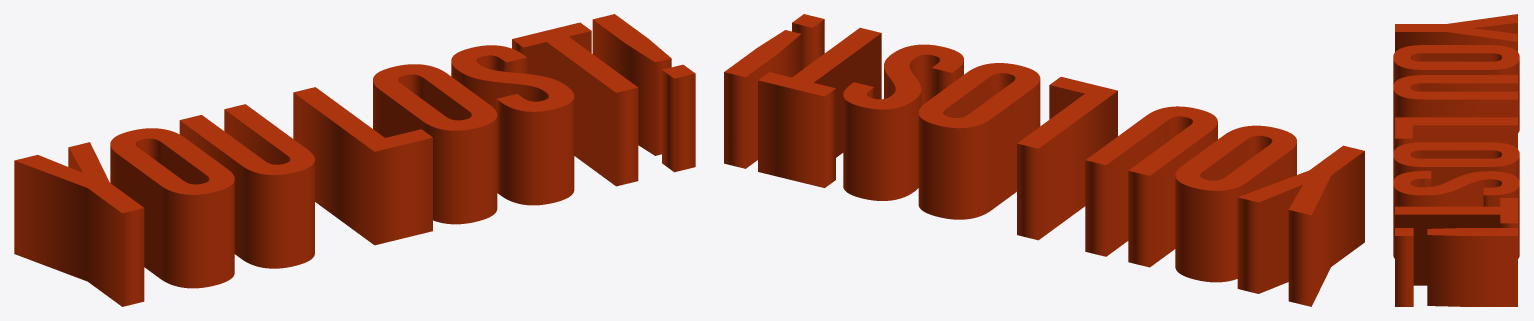
The model's file is text_lost.fbx.
3 renders of one model, left to right at view 1: azimuth 30°, elevation 25°; view 2: azimuth 150°, elevation 25°; view 3: azimuth 270°, elevation 25°, orthographic. The views are drawn at different scales.
Visible parts, largest first — view 1: Text; view 2: Text; view 3: Text.
Part boxes in pixels (x1,y1,x2,y2): Text: (14, 14, 695, 306); Text: (724, 14, 1364, 306); Text: (1393, 14, 1519, 306).
Bounding box in the file's own units: 269 × 40 × 64.75.
